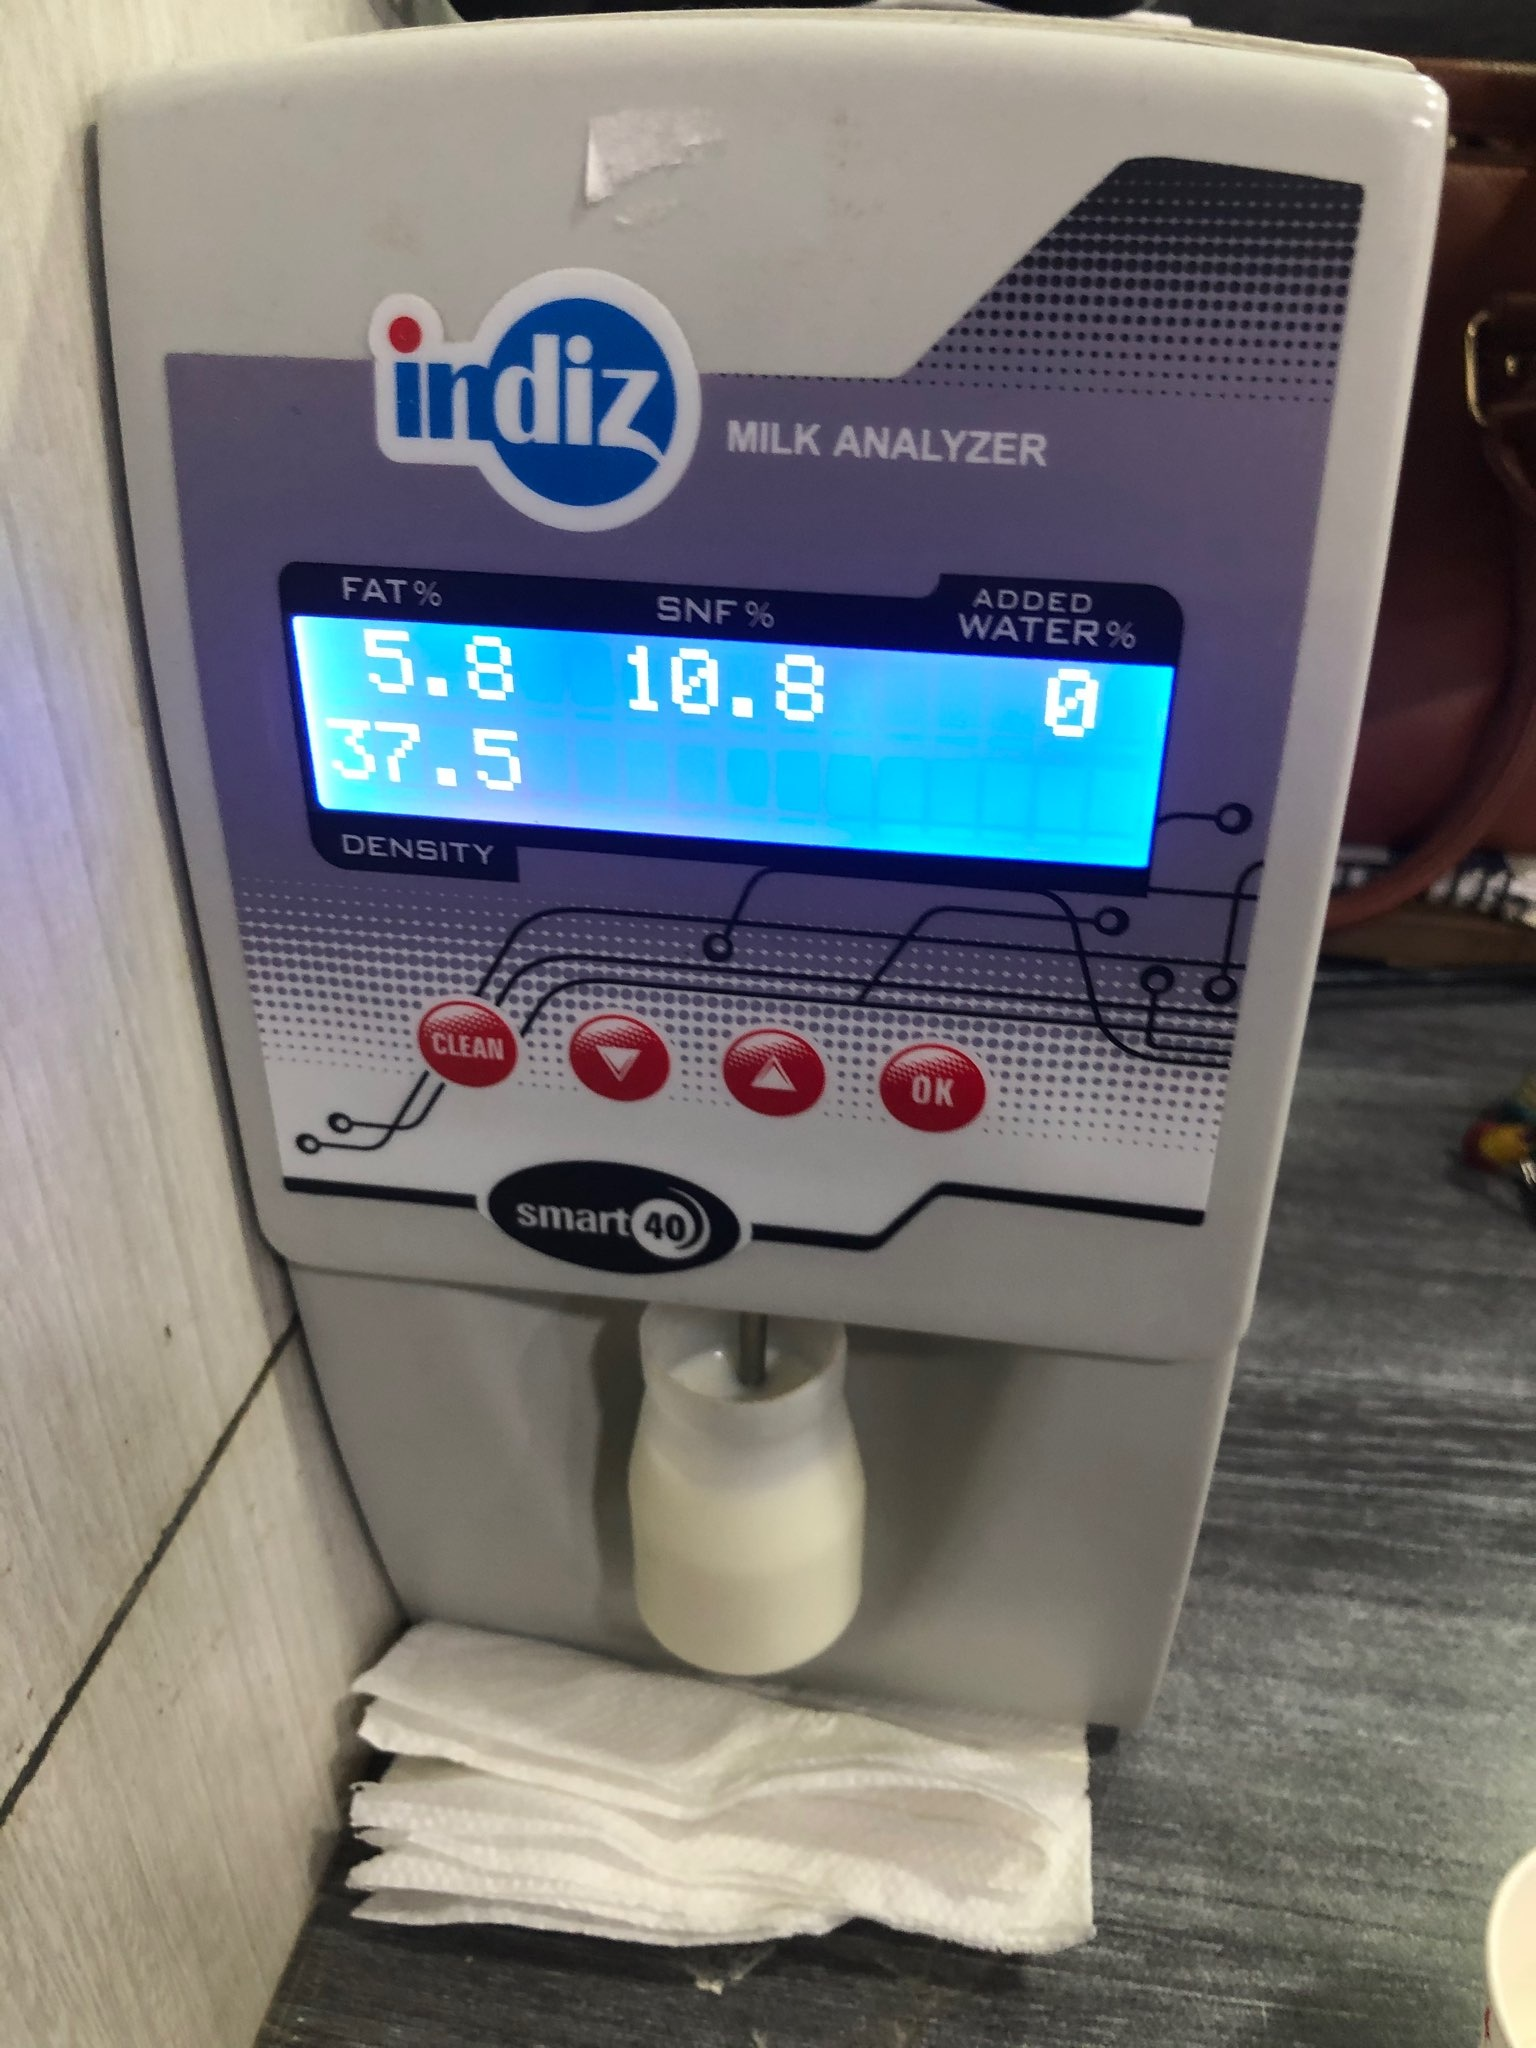lcd: (273, 531, 1187, 939)
